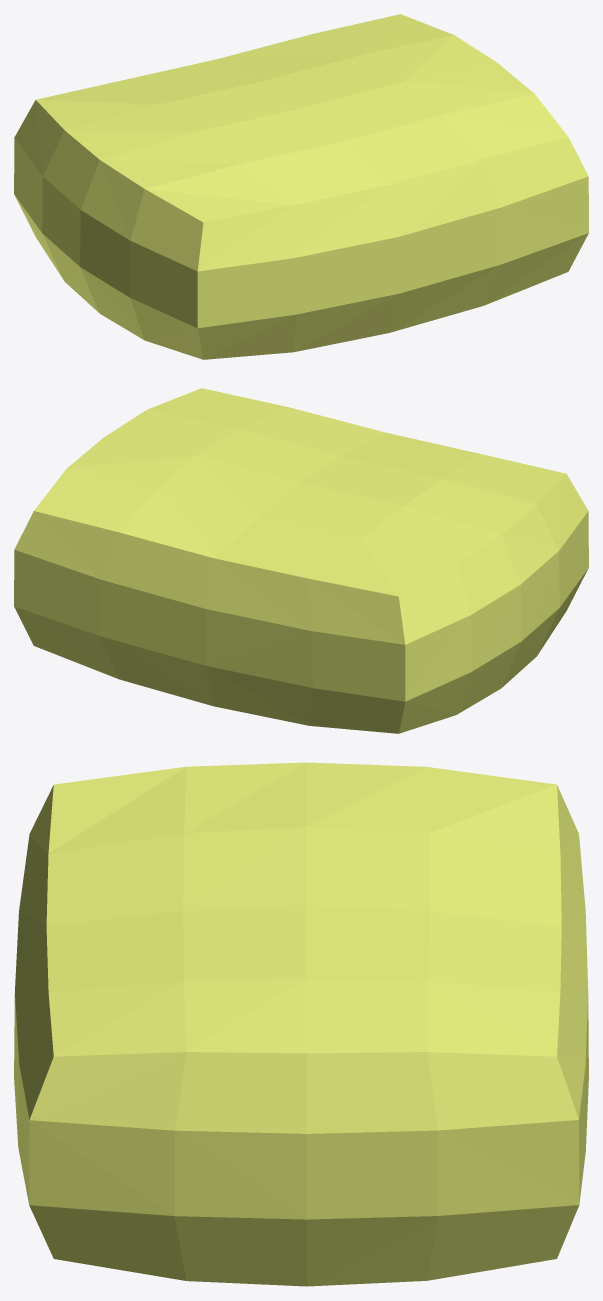
The model's file is soap.glb.
3 views of the same model, one above another, from view 1: azimuth 30°, elevation 25°; view 2: azimuth 150°, elevation 25°; view 3: azimuth 270°, elevation 25° (orthographic). The views are drawn at different scales.
Parts seen in each view (by area): view 1: Node; view 2: Node; view 3: Node.
Part boxes in pixels (x1=…): Node: x1=14, y1=14, x2=588, y2=359; Node: x1=14, y1=388, x2=588, y2=733; Node: x1=14, y1=762, x2=588, y2=1286.
Bounding box in the file's own units: 0.8342 × 0.3198 × 0.6348.
